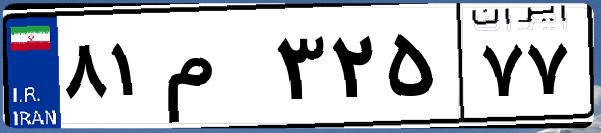1: (110, 28, 158, 98)
2: (330, 28, 385, 110)
3: (270, 28, 330, 110)
5: (385, 28, 445, 110)
7: (475, 38, 525, 113), (525, 38, 570, 115)
8: (57, 26, 110, 100)
م: (158, 20, 270, 120)
